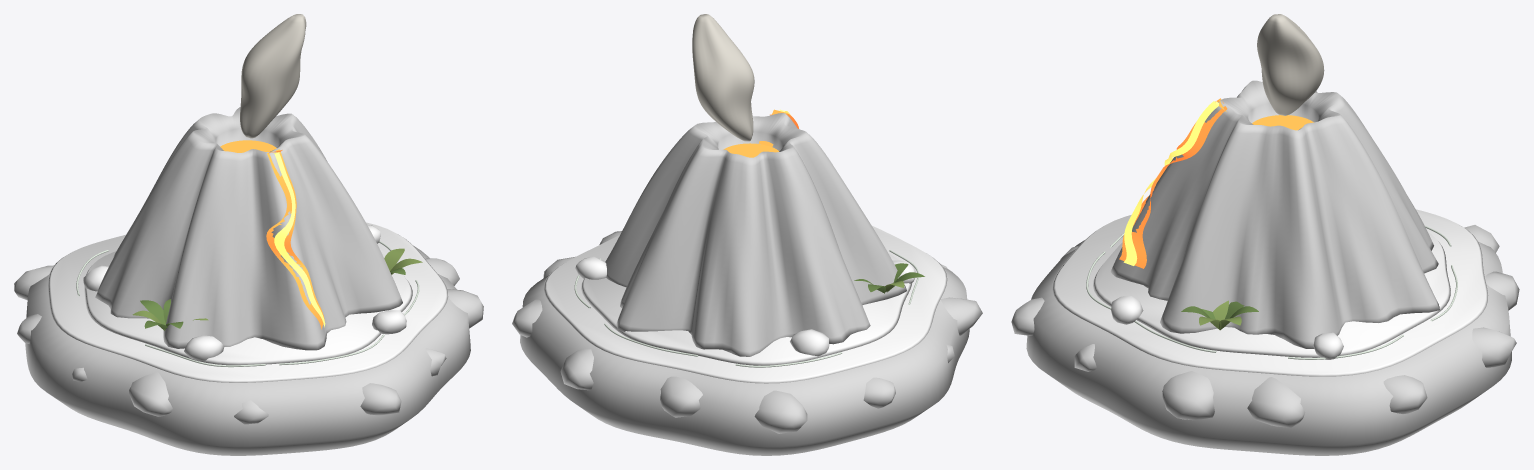
Rendered from volcano-island-v2.glb.
3 views of the same model, side by side, from view 1: azimuth 30°, elevation 25°; view 2: azimuth 150°, elevation 25°; view 3: azimuth 270°, elevation 25° (orthographic). The views are drawn at different scales.
Visible parts, largest first — view 1: Volcano | hollow fluted mountain, Rock | irregular island foundation, Water | enclosed turquoise lagoon, Sand | island shore, Smoke | blended plume, Lava | winding coral edge, Rock | shoreline boulder.007, Lava | winding golden center, Rock | shoreline boulder.009, Rock | shoreline boulder.011, Rock | beach stone, Rock | beach stone.001 (+3 smaller); view 2: Volcano | hollow fluted mountain, Rock | irregular island foundation, Water | enclosed turquoise lagoon, Sand | island shore, Smoke | blended plume, Rock | shoreline boulder.004, Rock | shoreline boulder.003, Rock | shoreline boulder.002, Rock | shoreline boulder.007, Rock | beach stone.003, Rock | shoreline boulder.005, Rock | shoreline boulder.001 (+2 smaller); view 3: Volcano | hollow fluted mountain, Rock | irregular island foundation, Water | enclosed turquoise lagoon, Sand | island shore, Smoke | blended plume, Rock | shoreline boulder.011, Rock | shoreline boulder, Lava | winding coral edge, Rock | shoreline boulder.001, Rock | shoreline boulder.002, Lava | winding golden center, Rock | shoreline boulder.009 (+4 smaller).
Part boxes in pixels (box(x1,y1,x2,y2)): Volcano | hollow fluted mountain: box(95, 107, 402, 350); Rock | irregular island foundation: box(25, 245, 470, 455); Water | enclosed turquoise lagoon: box(48, 222, 448, 382); Sand | island shore: box(84, 248, 412, 365); Smoke | blended plume: box(240, 14, 306, 138); Lava | winding coral edge: box(266, 149, 324, 329); Rock | shoreline boulder.007: box(129, 372, 172, 416); Lava | winding golden center: box(274, 152, 325, 327); Rock | shoreline boulder.009: box(360, 383, 401, 415); Rock | shoreline boulder.011: box(447, 289, 483, 328); Rock | beach stone: box(184, 335, 224, 360); Rock | beach stone.001: box(372, 310, 406, 334); Volcano | hollow fluted mountain: box(605, 113, 906, 356); Rock | irregular island foundation: box(520, 267, 969, 455); Water | enclosed turquoise lagoon: box(544, 226, 947, 383); Sand | island shore: box(581, 253, 911, 365); Smoke | blended plume: box(692, 14, 754, 141); Rock | shoreline boulder.004: box(754, 390, 807, 433); Rock | shoreline boulder.003: box(660, 376, 702, 417); Rock | shoreline boulder.002: box(560, 349, 593, 390); Rock | shoreline boulder.007: box(940, 297, 982, 335); Rock | beach stone.003: box(790, 329, 829, 356); Rock | shoreline boulder.005: box(863, 377, 895, 408); Rock | shoreline boulder.001: box(512, 299, 542, 337); Volcano | hollow fluted mountain: box(1110, 80, 1439, 348); Rock | irregular island foundation: box(1026, 240, 1511, 455); Water | enclosed turquoise lagoon: box(1052, 209, 1488, 376); Sand | island shore: box(1093, 232, 1450, 357); Smoke | blended plume: box(1257, 14, 1324, 115); Rock | shoreline boulder.011: box(1162, 371, 1214, 420); Rock | shoreline boulder: box(1247, 377, 1305, 427); Lava | winding coral edge: box(1119, 98, 1227, 268); Rock | shoreline boulder.001: box(1383, 375, 1427, 413); Rock | shoreline boulder.002: box(1472, 327, 1516, 367); Lava | winding golden center: box(1123, 101, 1218, 265); Rock | shoreline boulder.009: box(1011, 297, 1044, 335).
Bounding box in the file's own units: 1.63 × 1.36 × 1.64.
